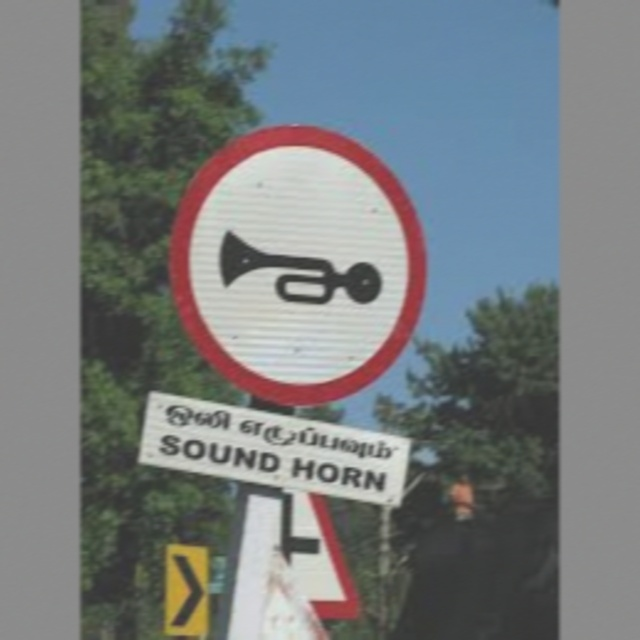Compulsory_Sound_Horn: (174, 126, 426, 396)
